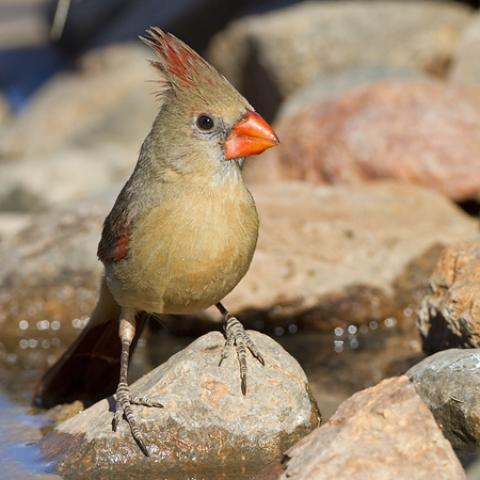bird: (31, 23, 282, 456)
